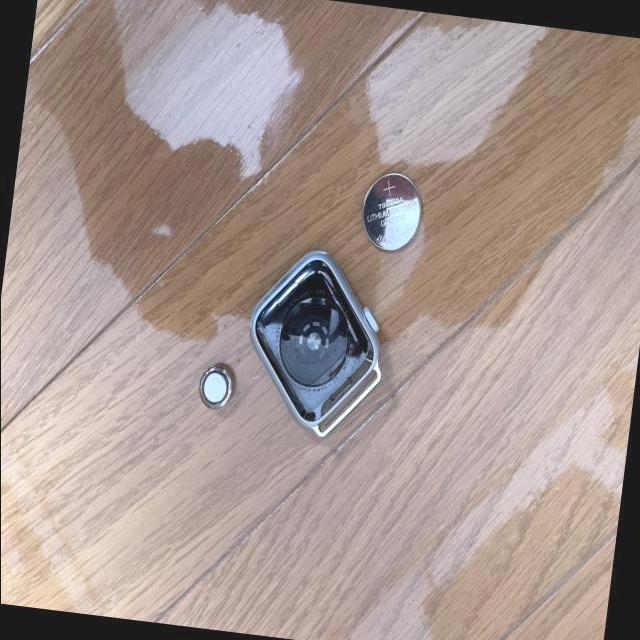COIN: (361, 166, 425, 252), (196, 361, 237, 412)
